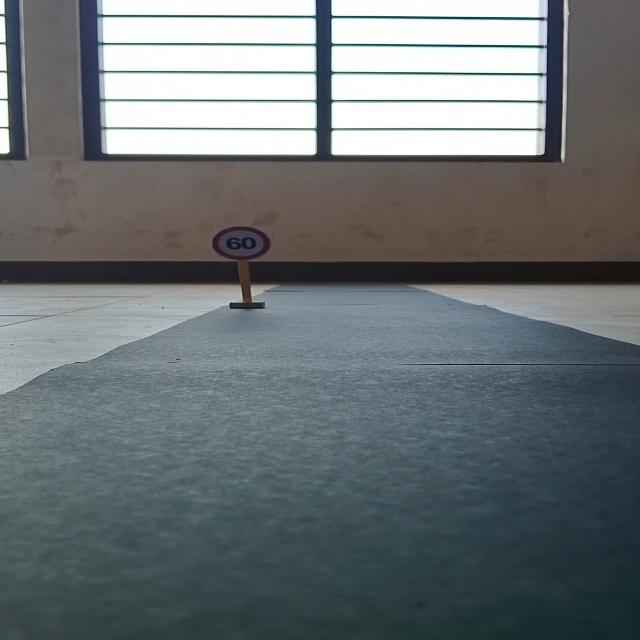Speed60: (206, 228, 276, 260)
